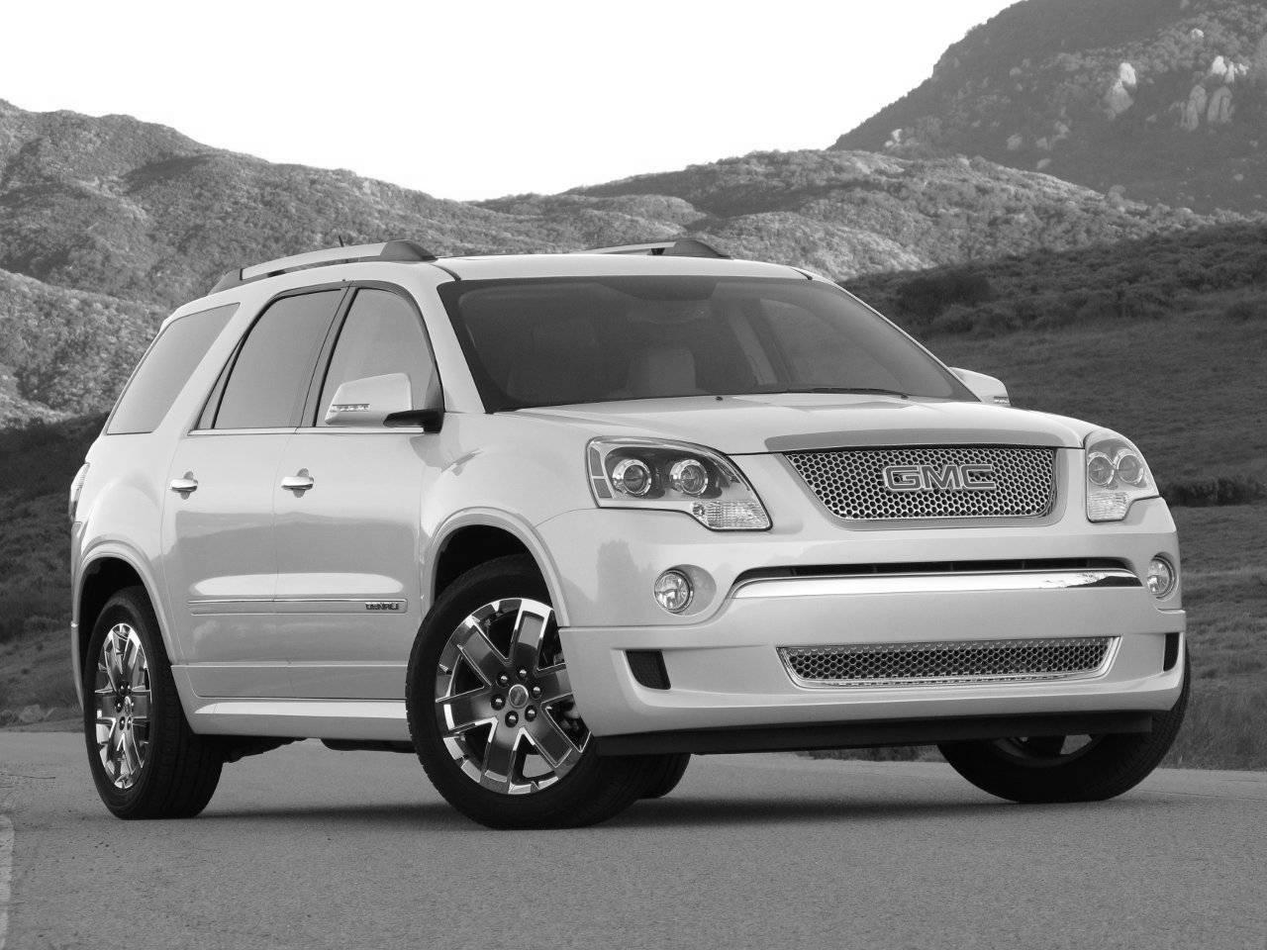car: (60, 248, 1199, 830)
